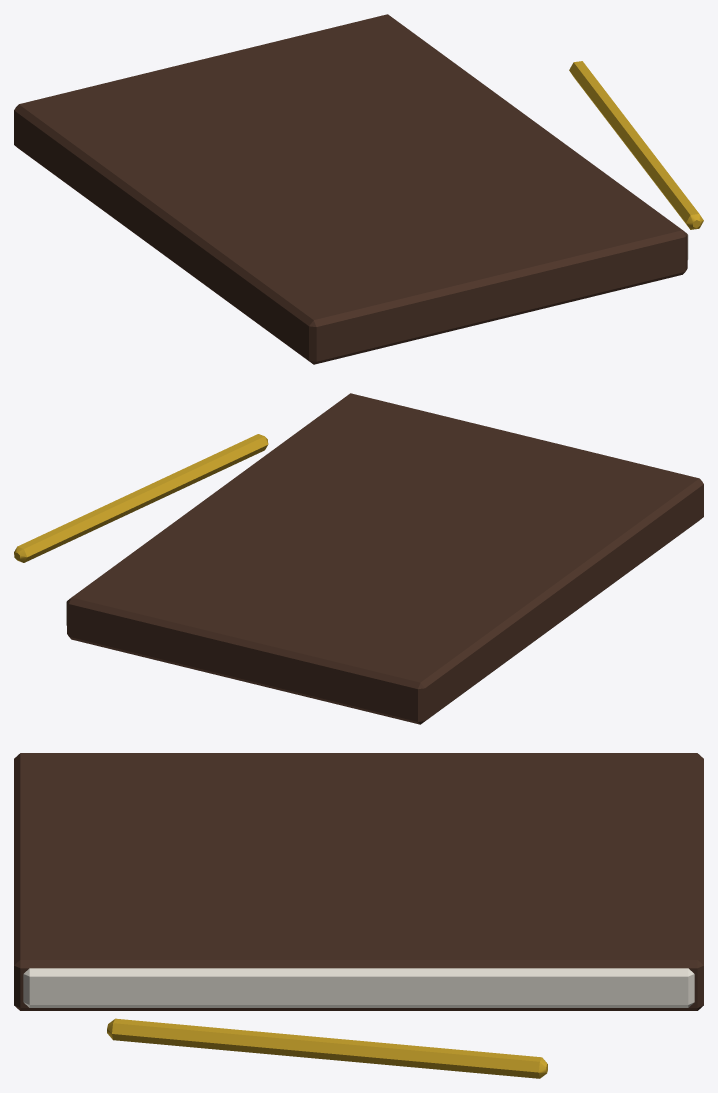
Rendered from prop_notebook.glb.
3 views of the same model, one above another, from view 1: azimuth 30°, elevation 25°; view 2: azimuth 150°, elevation 25°; view 3: azimuth 270°, elevation 25° (orthographic). The views are drawn at different scales.
Parts seen in each view (by area): view 1: Notebook; view 2: Notebook; view 3: Notebook.
Part boxes in pixels (left/top/right/bottom): Notebook: left=14, top=14, right=703, bottom=364; Notebook: left=14, top=393, right=703, bottom=724; Notebook: left=14, top=753, right=703, bottom=1078.
Size of the model in its own units: 0.213 by 0.018 by 0.22.
